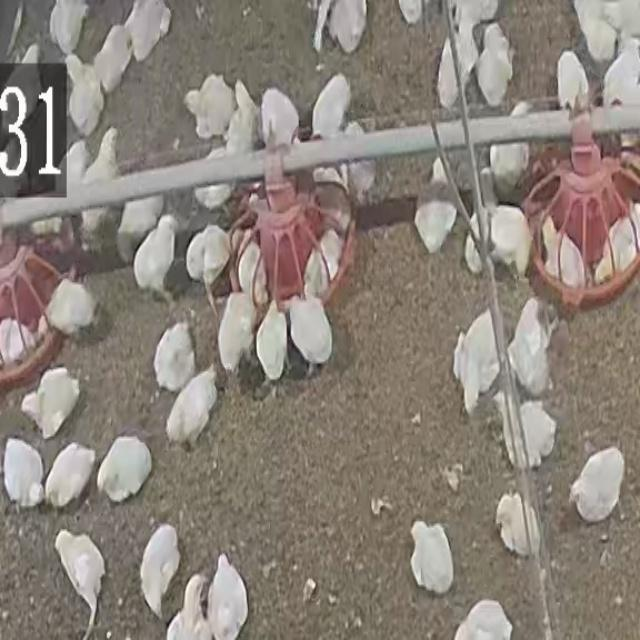chicken: (445, 309, 502, 412), (506, 296, 560, 400), (54, 528, 106, 636), (79, 128, 125, 242), (467, 204, 534, 278), (415, 150, 463, 252), (408, 518, 464, 598), (488, 102, 532, 200), (128, 211, 178, 297), (498, 399, 556, 473), (22, 368, 82, 439), (569, 448, 625, 524), (139, 524, 181, 620), (165, 369, 217, 446), (96, 435, 152, 504), (182, 73, 238, 142), (44, 272, 98, 340), (592, 207, 640, 283), (43, 442, 96, 508), (206, 556, 248, 638), (291, 294, 334, 374), (115, 195, 165, 263), (217, 293, 257, 376), (185, 222, 231, 291), (474, 25, 512, 108), (64, 56, 103, 136), (495, 492, 542, 558), (2, 438, 46, 508), (155, 320, 199, 388), (122, 0, 170, 62), (226, 78, 262, 160), (192, 148, 236, 214), (254, 300, 289, 381), (547, 219, 586, 290), (310, 73, 352, 138), (92, 26, 132, 94), (302, 228, 344, 292), (258, 86, 300, 149), (48, 0, 88, 56), (327, 0, 367, 54), (556, 50, 590, 112)
